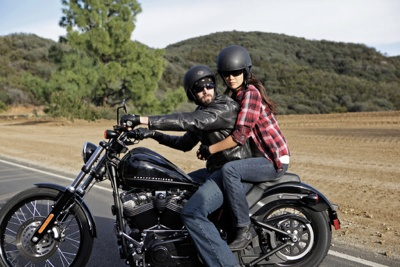helmet: (217, 45, 254, 93), (184, 63, 219, 110)
